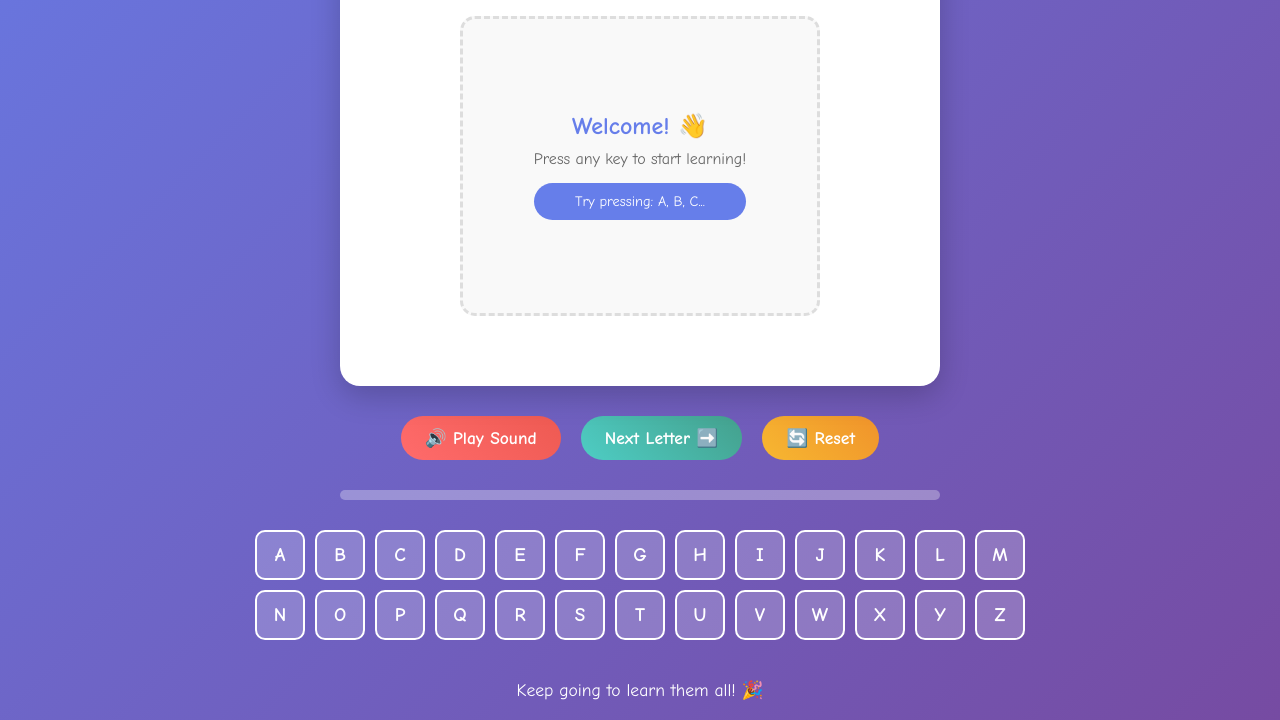
Test: Alphabet Learning App › Next Letter Functionality › next letter button works when no letters learned
The image size is (1280, 720).
(page scrolled)
Step 1. Click the button "Next Letter ➡️" → (661, 438), box x1=581 y1=416 x2=742 y2=460
(page scrolled)
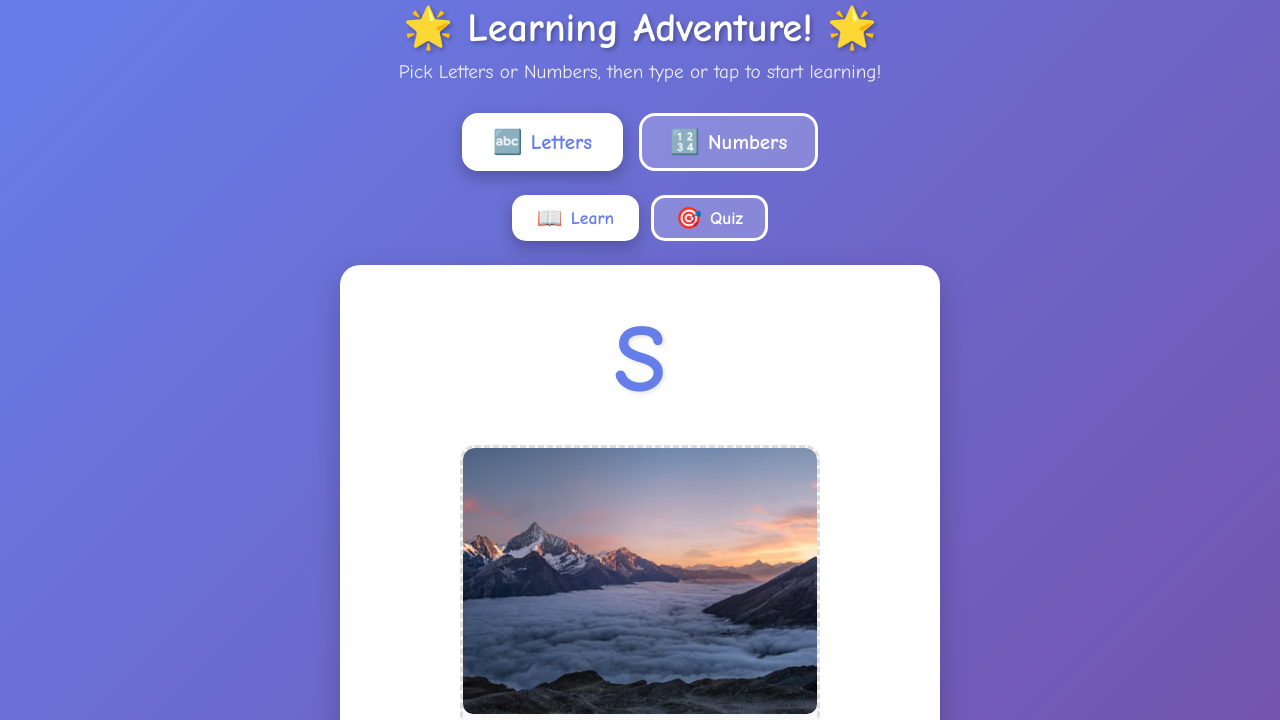
Now the text with test id "letter-display" reads "S", box x1=614 y1=305 x2=666 y2=415
